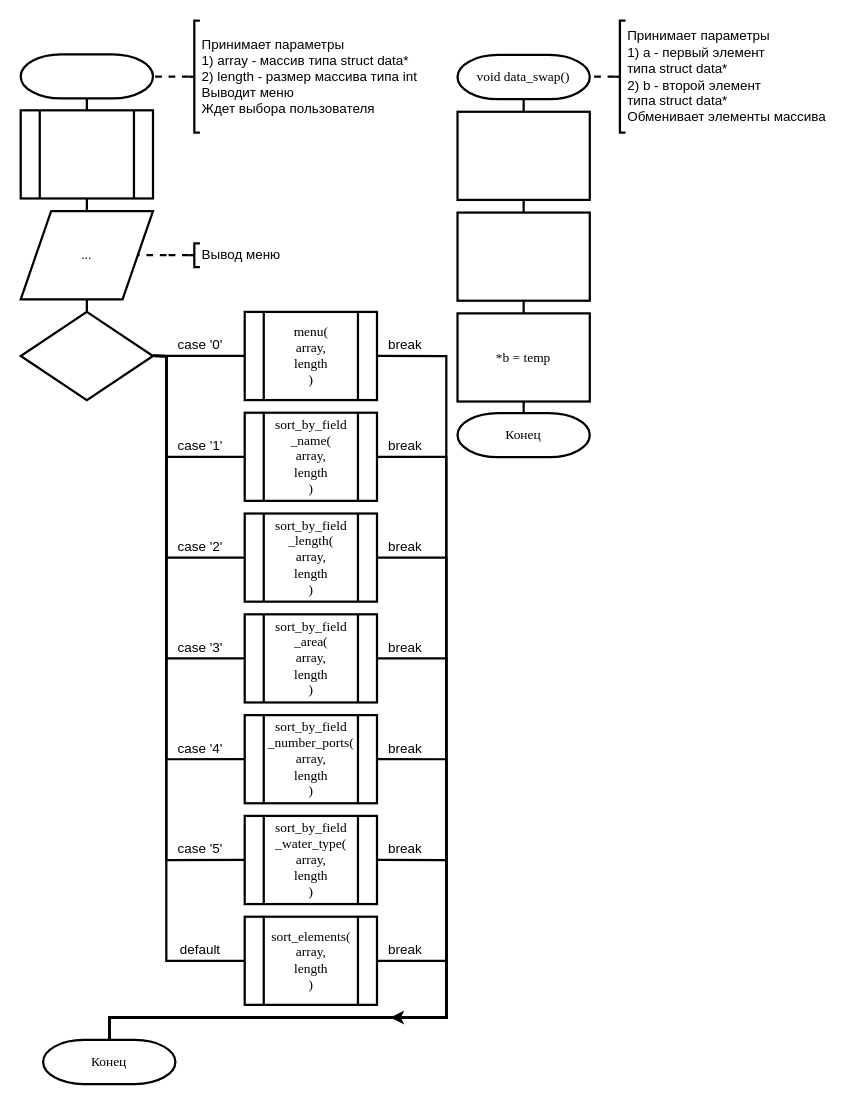
The diagram is 844 pixels wide and 1104 high, and some of its shapes have lost their labels. Each missing label, with the box of its shape:
*a = *b: (456, 211, 590, 301)
clear_console(): (19, 109, 154, 199)
getch(): (19, 310, 154, 401)
temp = *a: (456, 110, 590, 200)
void sort_elements(): (19, 53, 154, 99)
